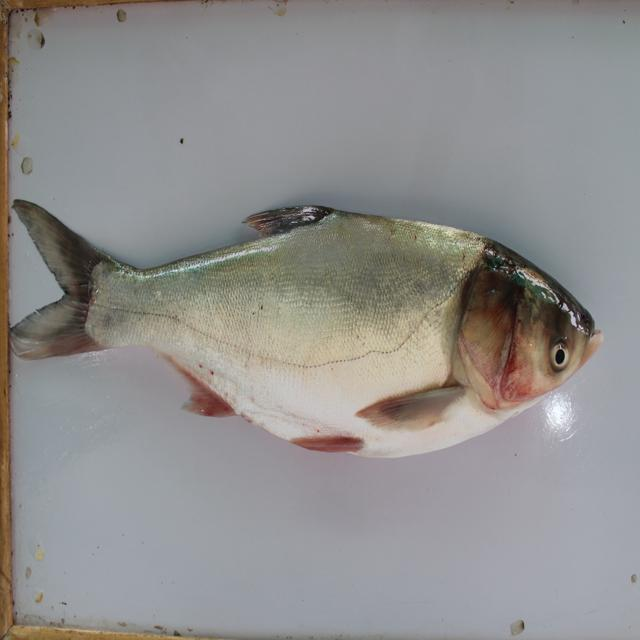SilverCarp: (7, 185, 619, 458)
